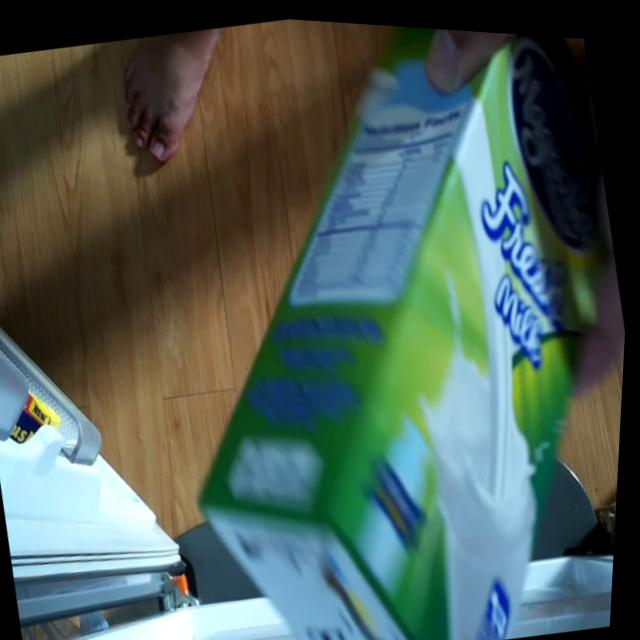milk: (105, 7, 640, 640)
